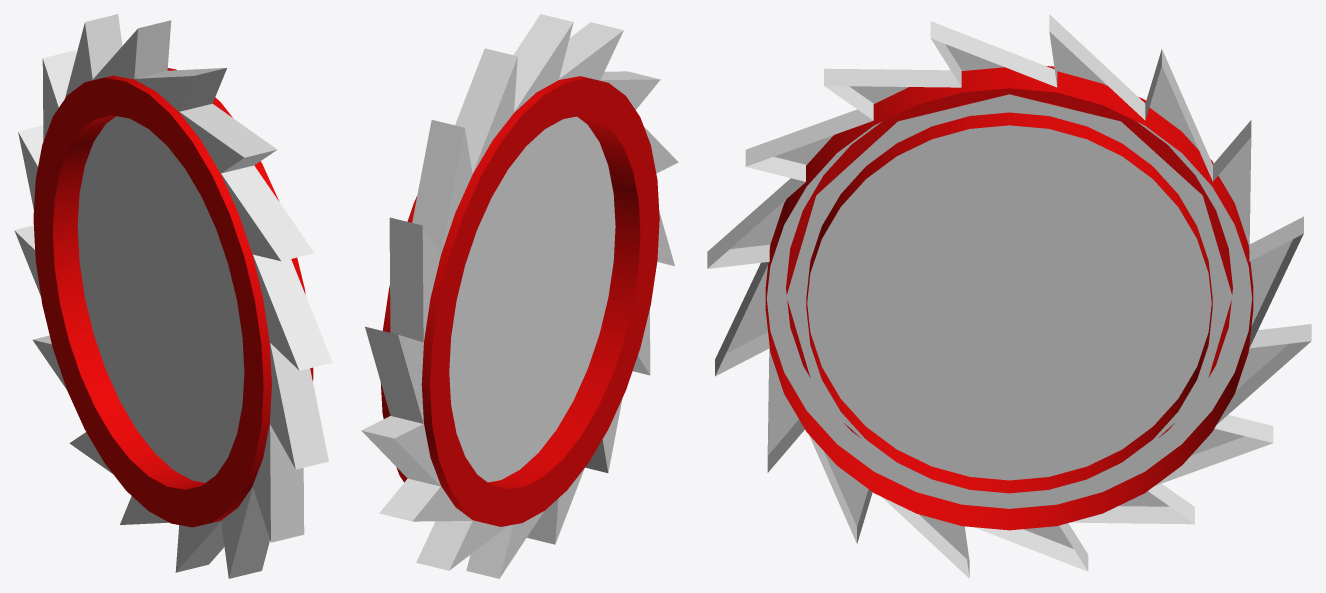
The model's file is EnemySaw.obj.
3 renders of one model, left to right at view 1: azimuth 30°, elevation 25°; view 2: azimuth 150°, elevation 25°; view 3: azimuth 270°, elevation 25°, orthographic. The views are drawn at different scales.
Visible parts, largest first — view 1: EnemySaw; view 2: EnemySaw; view 3: EnemySaw.
Boxes of the visible parts, left/top/right/bottom form: EnemySaw: left=14, top=14, right=332, bottom=578; EnemySaw: left=361, top=14, right=678, bottom=578; EnemySaw: left=707, top=14, right=1311, bottom=578.
Bounding box in the file's own units: 0.3 × 2.97 × 2.97.
Materials: 1 (1 with a texture image).
